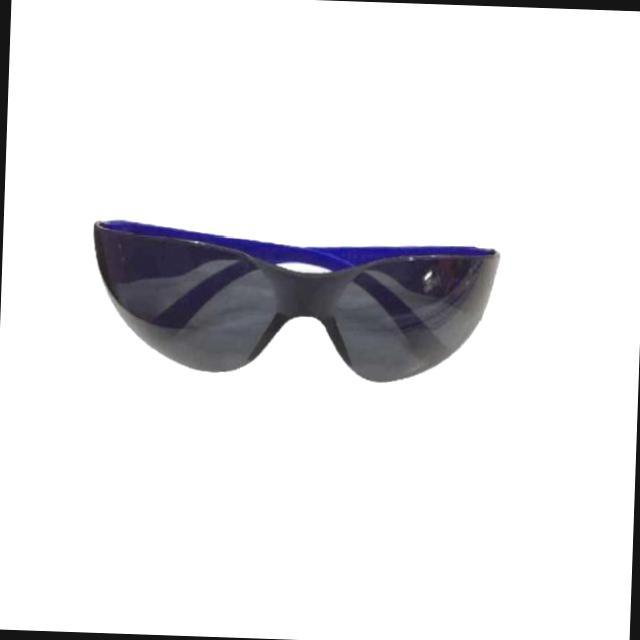goggles_on: (79, 210, 526, 400)
